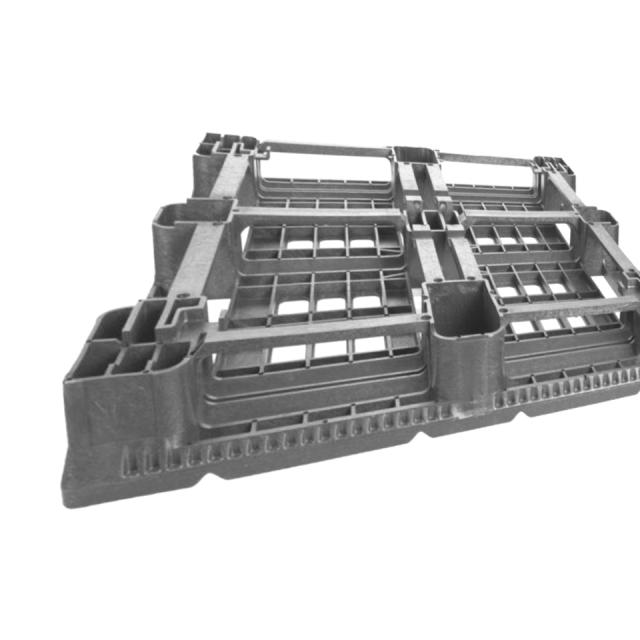non-igps: (41, 120, 640, 518)
